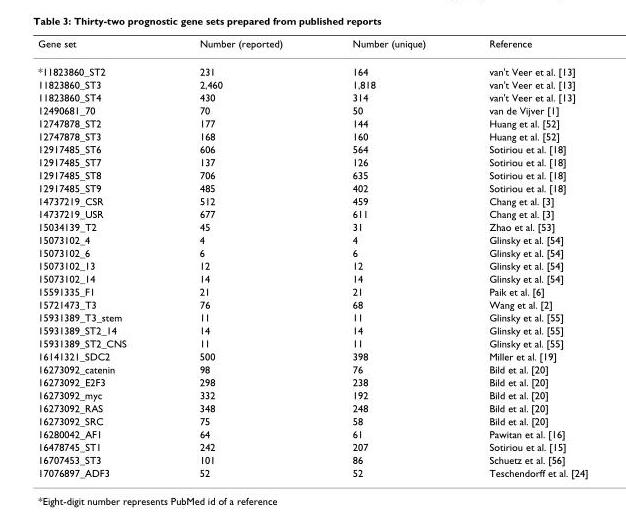table: (37, 37, 587, 478)
table column: (162, 37, 316, 478), (316, 37, 456, 478), (456, 37, 587, 478), (37, 37, 162, 478)
table column header: (37, 37, 587, 57)
table row: (37, 37, 587, 57), (37, 57, 587, 77), (37, 77, 587, 90), (37, 90, 587, 103), (37, 103, 587, 116), (37, 116, 587, 129), (37, 129, 587, 142), (37, 142, 587, 155), (37, 155, 587, 168), (37, 168, 587, 181), (37, 181, 587, 194), (37, 194, 587, 207), (37, 219, 587, 232), (37, 232, 587, 245), (37, 245, 587, 258), (37, 258, 587, 271), (37, 271, 587, 284), (37, 284, 587, 297), (37, 297, 587, 310), (37, 310, 587, 323), (37, 323, 587, 336), (37, 336, 587, 349), (37, 349, 587, 362), (37, 362, 587, 375), (37, 375, 587, 388), (37, 388, 587, 401), (37, 401, 587, 414), (37, 414, 587, 427), (37, 427, 587, 440), (37, 452, 587, 465), (37, 465, 587, 478), (37, 207, 587, 219), (37, 440, 587, 452)
